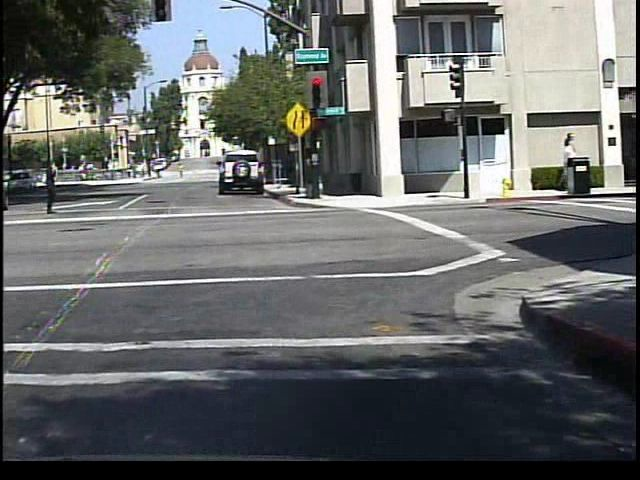person: (32, 156, 64, 217), (2, 168, 30, 230), (173, 160, 185, 180), (150, 164, 161, 180)
